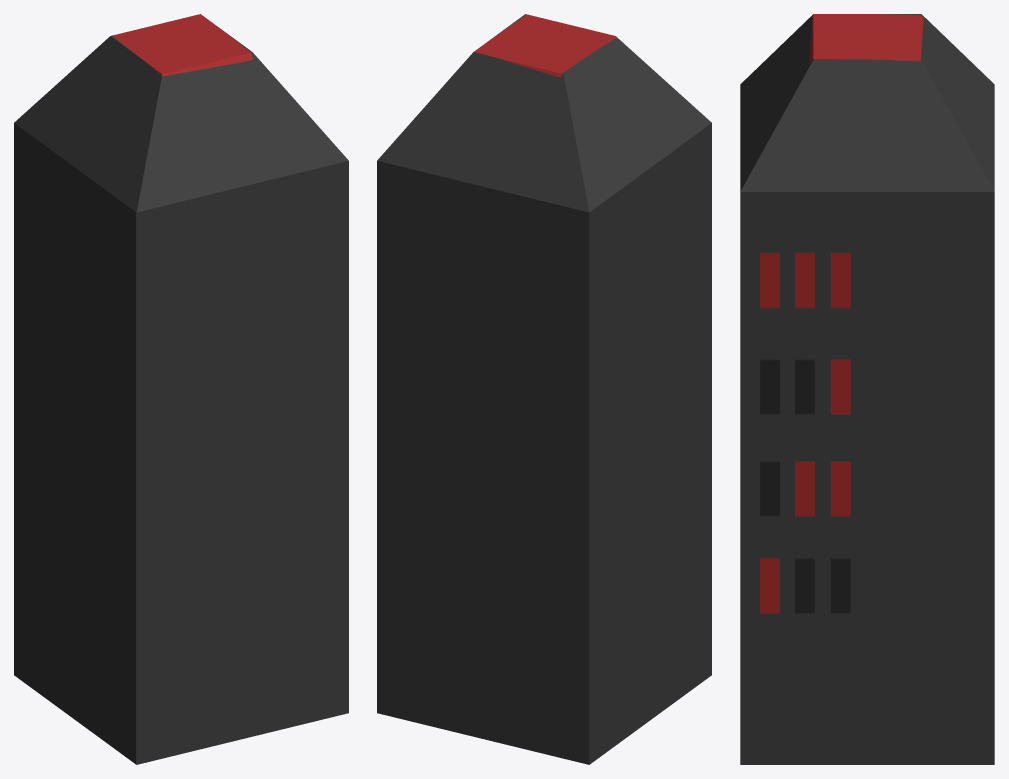
File: cyber3.obj
The picture shows the model from 3 angles, left to right: view 1: azimuth 30°, elevation 25°; view 2: azimuth 150°, elevation 25°; view 3: azimuth 270°, elevation 25°; orthographic projection. The views are drawn at different scales.
Visible parts, largest first — view 1: Cube_Cube.002; view 2: Cube_Cube.002; view 3: Cube_Cube.002.
Part boxes in pixels (left/top/right/bottom): Cube_Cube.002: left=14, top=14, right=348, bottom=764; Cube_Cube.002: left=377, top=14, right=711, bottom=764; Cube_Cube.002: left=740, top=14, right=994, bottom=764.
Size of the model in its own units: 3.1 by 9.06 by 3.1.
1 material, 1 textured.
